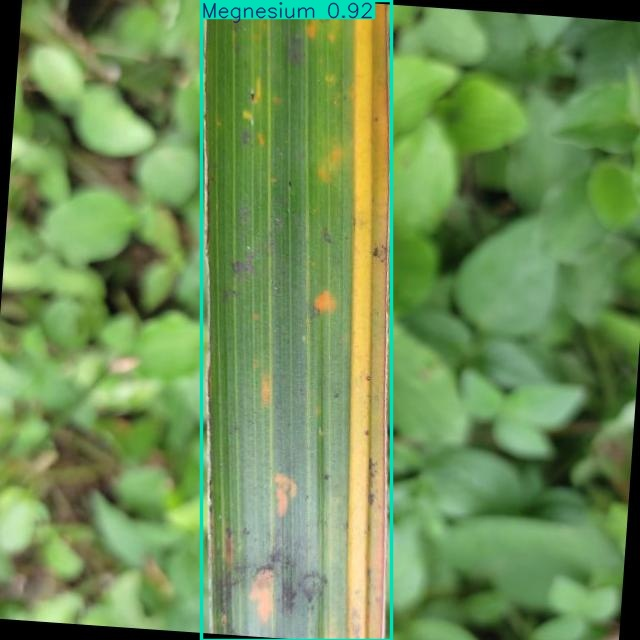Megnesium: (201, 0, 392, 640)
